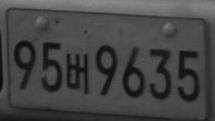3: (148, 47, 172, 100)
5: (177, 49, 201, 102), (40, 41, 62, 92)
6: (121, 46, 145, 98)
9: (94, 43, 118, 96), (12, 38, 36, 90)
버: (65, 52, 89, 94)
